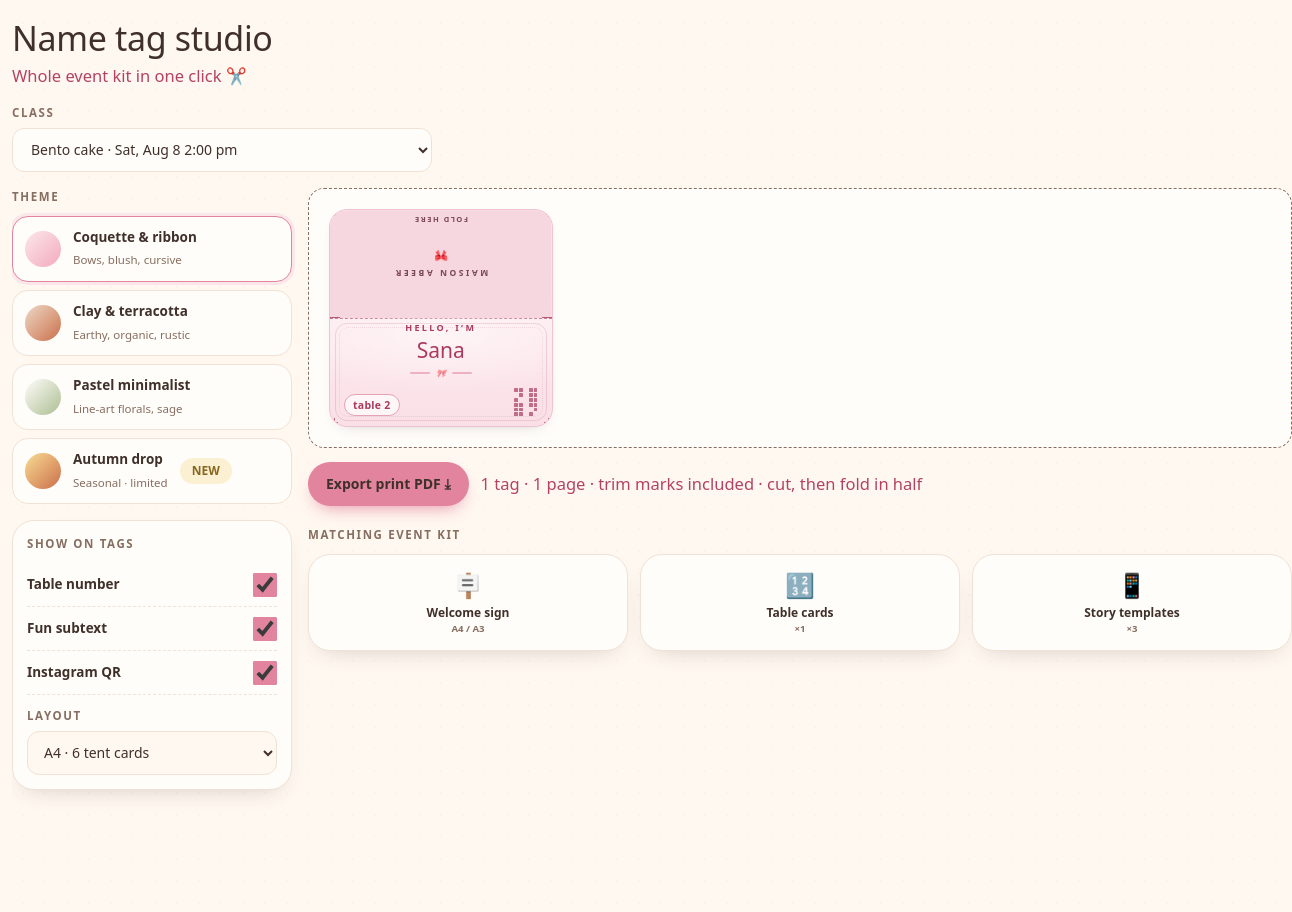
Test: TagStudio › hides table numbers when the toggle is off
Expected: the text "table 2" is shown, [344,394,400,416]
Click the checkbox labelled "Table number" at (265, 585), box [253,573,277,597]
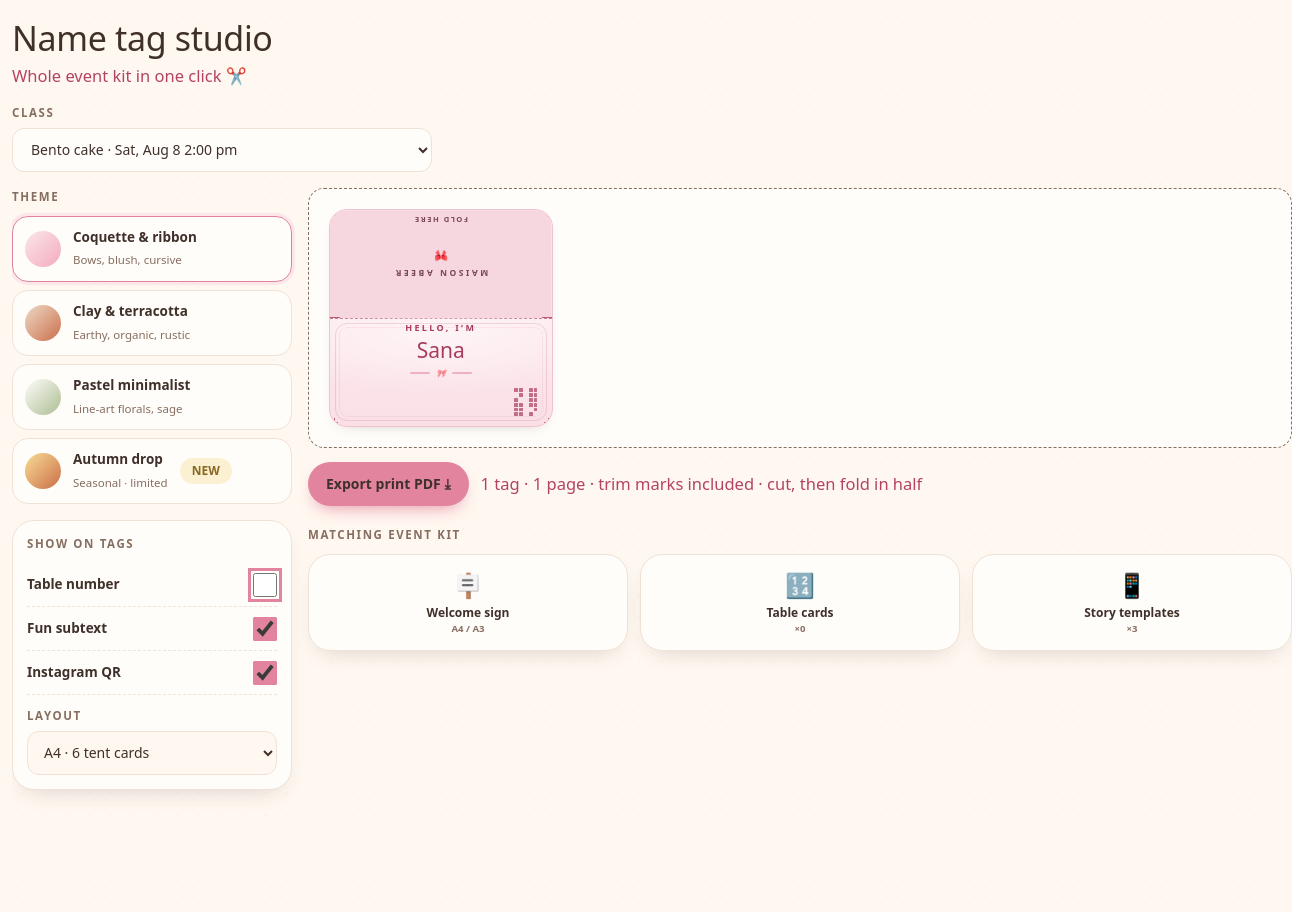
Expected: the text "table 2" is gone
